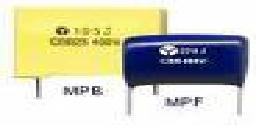Electrolytic-Capacitor: (10, 2, 125, 89), (118, 34, 254, 104)
